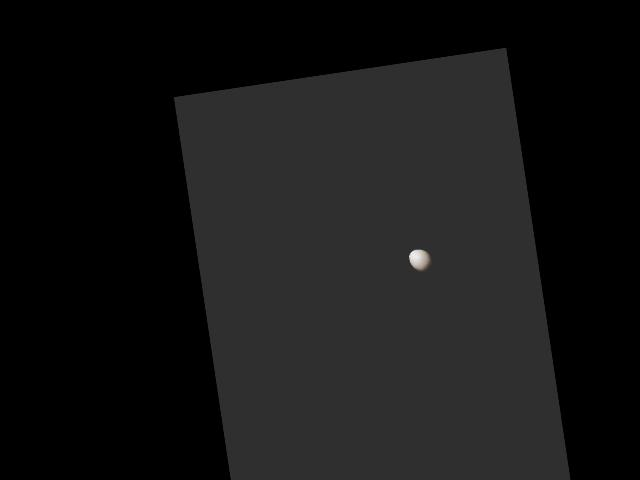egg: (408, 247, 433, 274)
